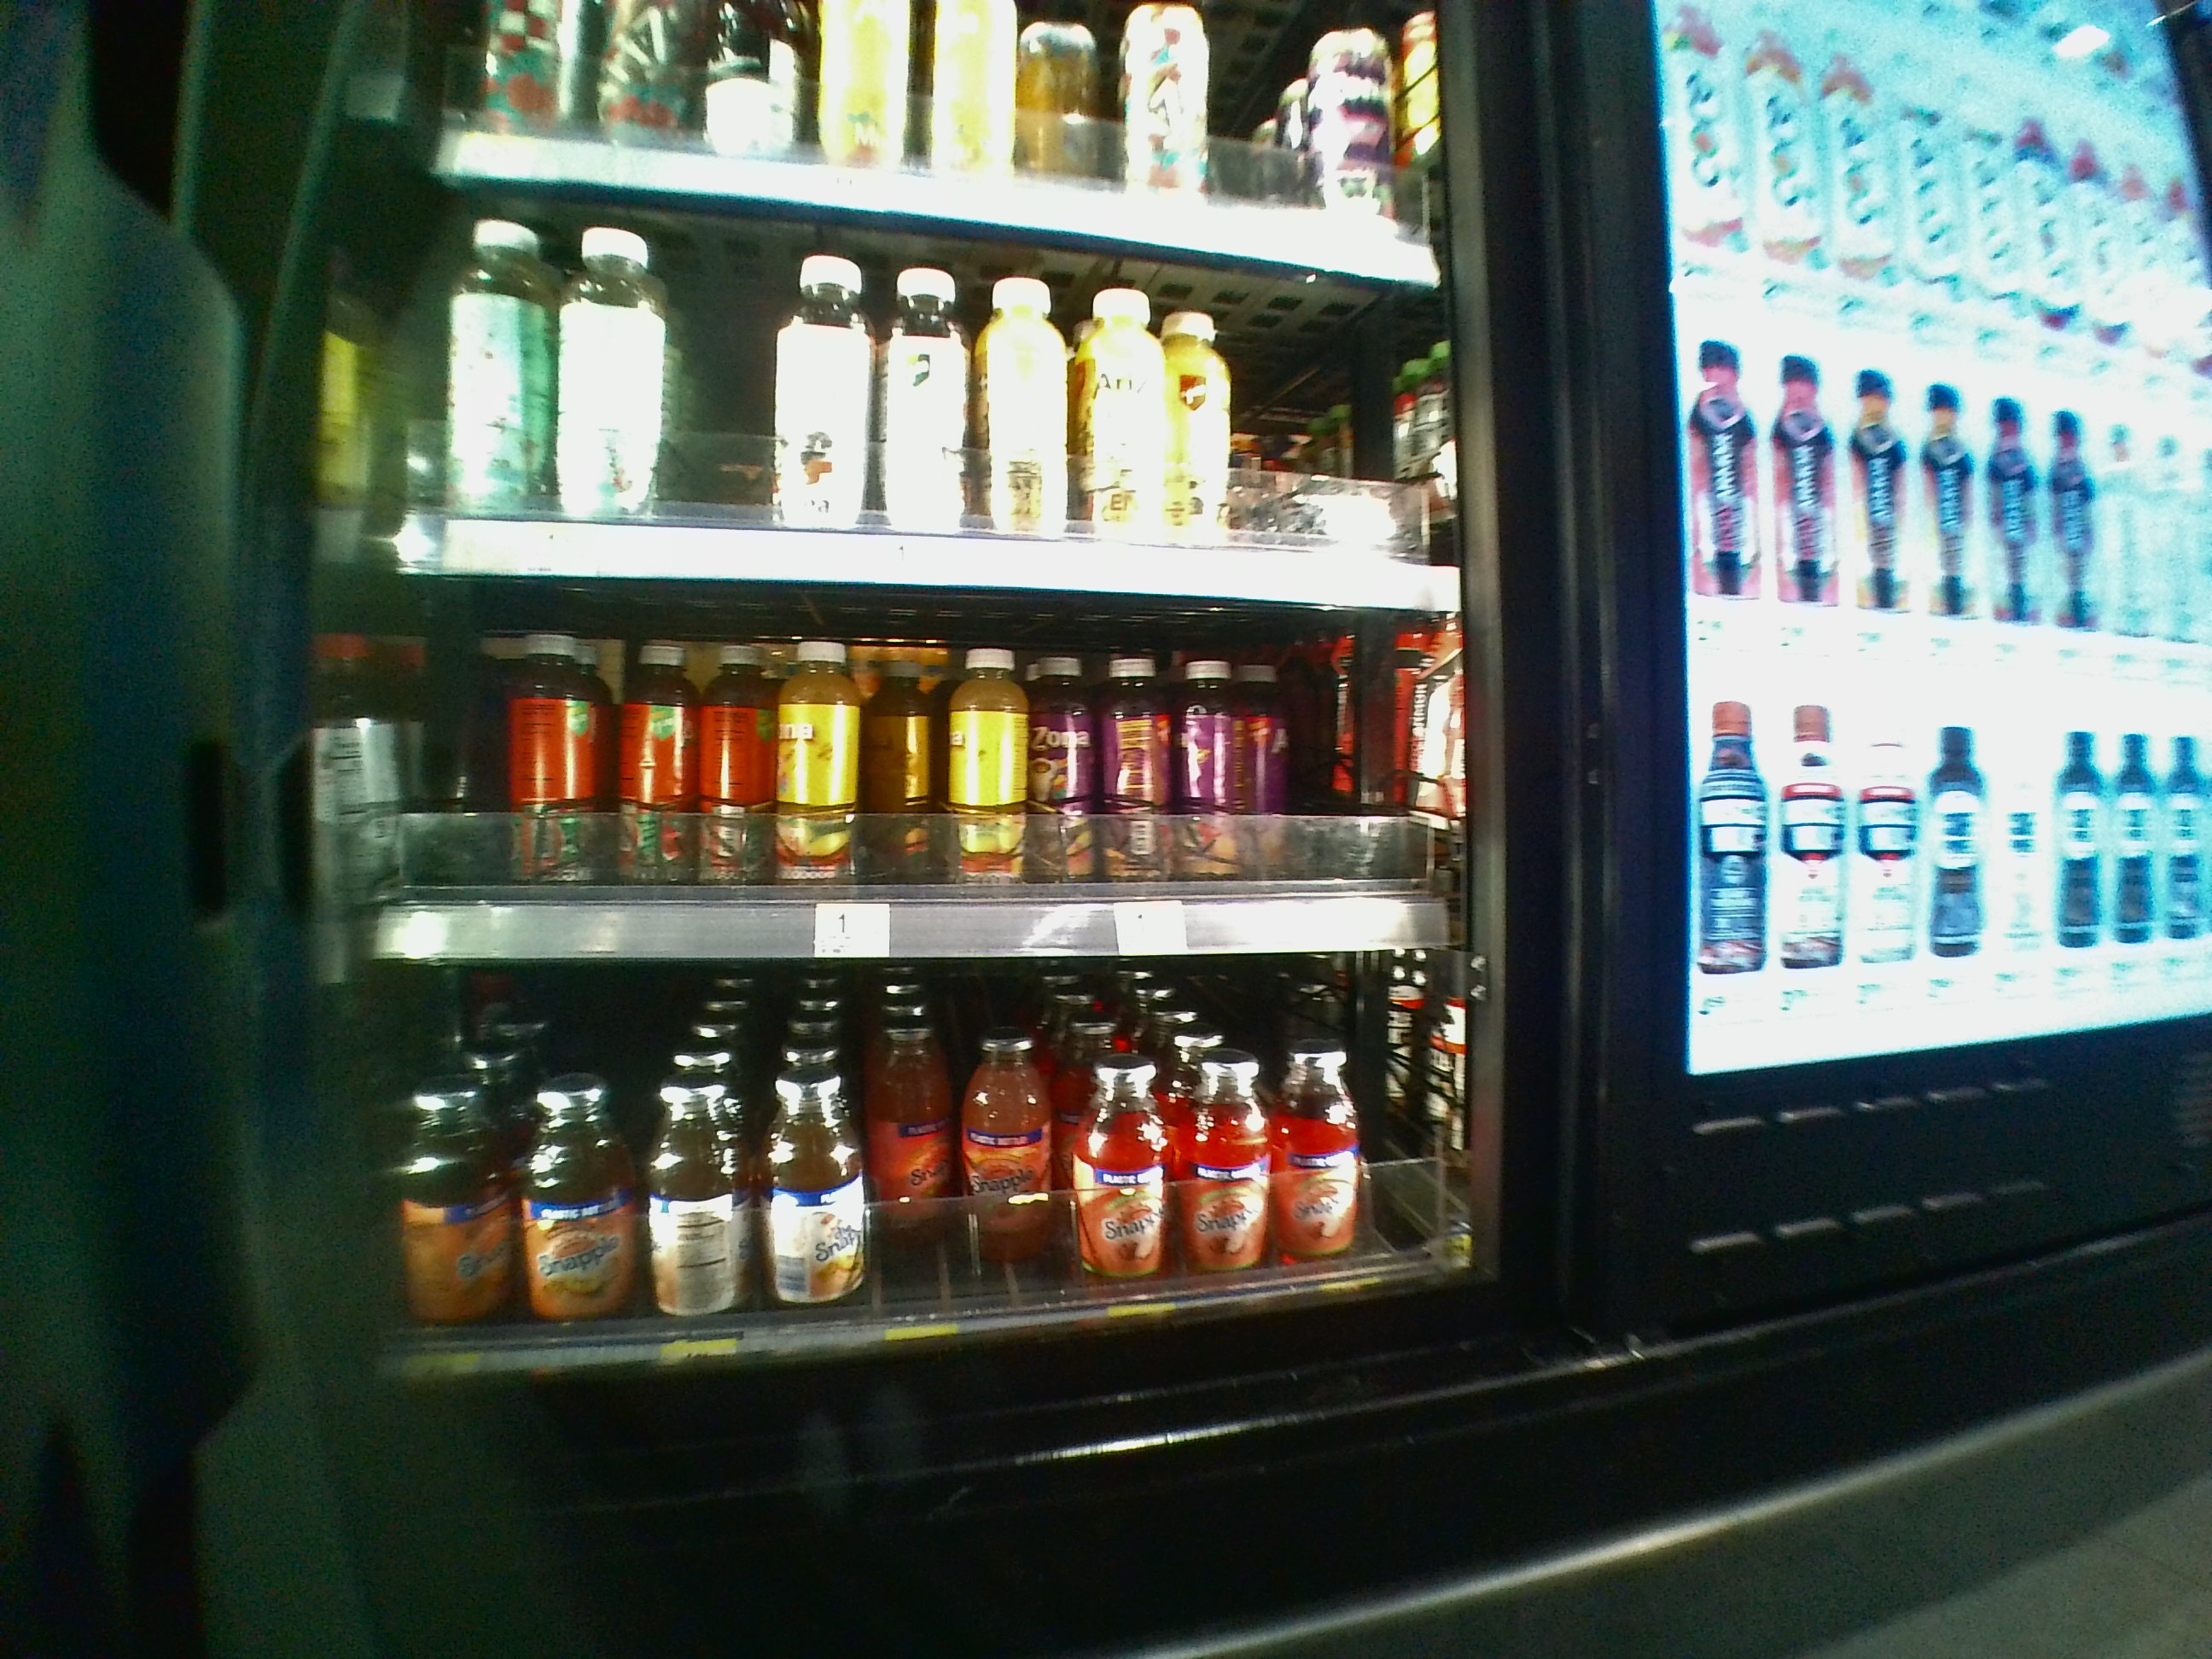shelf: (376, 962, 1475, 1399), (376, 573, 1475, 953)
